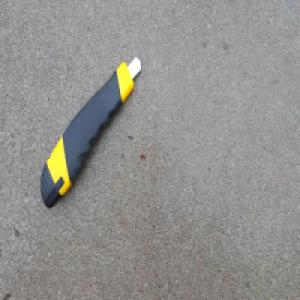Cutter: (40, 54, 142, 210)
